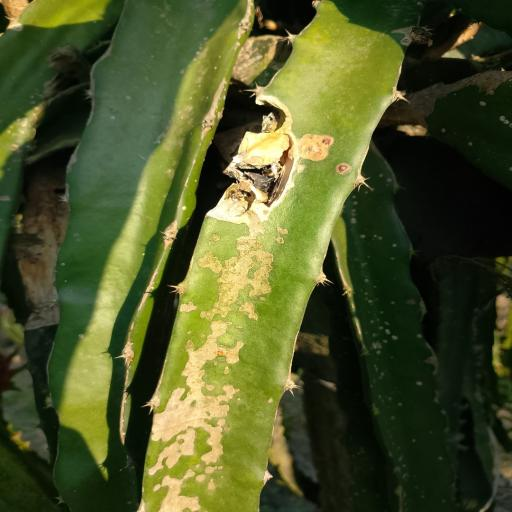stemcanker: (275, 220, 292, 247), (212, 342, 232, 364), (331, 160, 353, 179), (176, 200, 194, 223), (73, 330, 94, 348), (212, 344, 230, 363), (318, 134, 338, 150), (207, 231, 226, 246), (182, 328, 205, 340), (334, 164, 354, 177), (69, 232, 87, 246), (396, 36, 413, 48), (264, 398, 278, 410), (162, 166, 176, 176), (58, 261, 72, 270), (217, 464, 225, 478), (193, 463, 206, 470), (235, 396, 243, 404), (266, 398, 274, 404), (218, 464, 224, 470), (260, 297, 268, 301), (195, 464, 201, 468), (236, 397, 240, 402), (221, 475, 224, 479)
